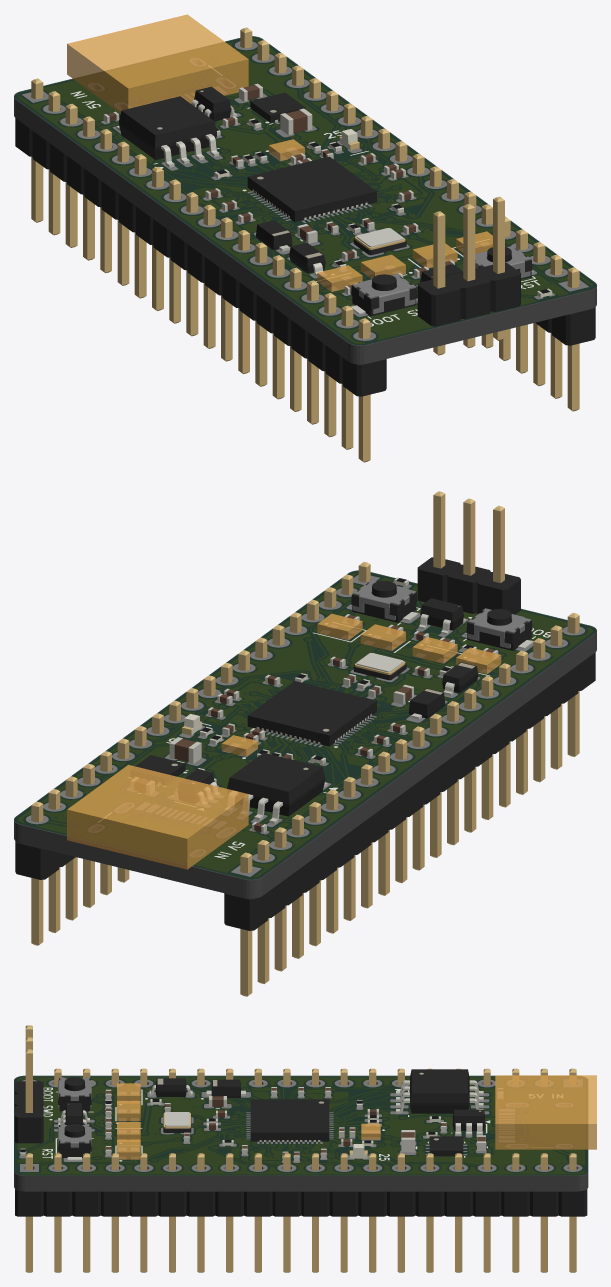
Rendered from board.glb.
3 renders of one model, top to bottom at view 1: azimuth 30°, elevation 25°; view 2: azimuth 150°, elevation 25°; view 3: azimuth 270°, elevation 25°, orthographic. The views are drawn at different scales.
Parts seen in each view (by area): view 1: easy2350_soldermask, PinHeader_1x20_P2.54mm_Vertical (×2), easy2350_PCB, easy2350_copper, J1, PinHeader_1x03_P2.54mm_Vertical, easy2350_pad, QFN-56-1EP_7x7mm_P0.4mm_EP5.6x5.6mm, SOIC-8_5.3x5.3mm_P1.27mm, SW_SPST_TS-1088-xR020 (×2), Crystal_SMD_3225-4Pin_3.2x2.5mm, SOT-23-6 (+8 smaller); view 2: easy2350_soldermask, PinHeader_1x20_P2.54mm_Vertical (×2), easy2350_PCB, easy2350_copper, J1, easy2350_pad, PinHeader_1x03_P2.54mm_Vertical, QFN-56-1EP_7x7mm_P0.4mm_EP5.6x5.6mm, SOIC-8_5.3x5.3mm_P1.27mm, SW_SPST_TS-1088-xR020 (×2), SOT-23-5, SOT-23-6 (+9 smaller); view 3: easy2350_soldermask, PinHeader_1x20_P2.54mm_Vertical (×2), easy2350_PCB, easy2350_copper, J1, easy2350_pad, QFN-56-1EP_7x7mm_P0.4mm_EP5.6x5.6mm, SOIC-8_5.3x5.3mm_P1.27mm, PinHeader_1x03_P2.54mm_Vertical, SW_SPST_TS-1088-xR020 (×2), SOT-23-6, DFN-8-1EP_3x3mm_P0.65mm_EP1.5x2.25mm (+11 smaller).
Part boxes in pixels (x1=…): easy2350_soldermask: x1=14, y1=36, x2=596, y2=345; PinHeader_1x20_P2.54mm_Vertical (×2): x1=15, y1=27, x2=595, y2=462; easy2350_PCB: x1=14, y1=37, x2=596, y2=364; easy2350_copper: x1=19, y1=38, x2=592, y2=343; J1: x1=67, y1=14, x2=248, y2=113; PinHeader_1x03_P2.54mm_Vertical: x1=417, y1=196, x2=520, y2=355; easy2350_pad: x1=22, y1=41, x2=588, y2=340; QFN-56-1EP_7x7mm_P0.4mm_EP5.6x5.6mm: x1=247, y1=156, x2=376, y2=222; SOIC-8_5.3x5.3mm_P1.27mm: x1=116, y1=96, x2=219, y2=167; SW_SPST_TS-1088-xR020 (×2): x1=351, y1=245, x2=533, y2=316; Crystal_SMD_3225-4Pin_3.2x2.5mm: x1=353, y1=228, x2=406, y2=255; SOT-23-6: x1=191, y1=86, x2=237, y2=121; easy2350_soldermask: x1=14, y1=570, x2=596, y2=879; PinHeader_1x20_P2.54mm_Vertical (×2): x1=15, y1=562, x2=595, y2=996; easy2350_PCB: x1=14, y1=571, x2=596, y2=898; easy2350_copper: x1=18, y1=573, x2=592, y2=877; J1: x1=67, y1=765, x2=248, y2=869; easy2350_pad: x1=26, y1=575, x2=585, y2=876; PinHeader_1x03_P2.54mm_Vertical: x1=417, y1=491, x2=520, y2=614; QFN-56-1EP_7x7mm_P0.4mm_EP5.6x5.6mm: x1=247, y1=681, x2=376, y2=746; SOIC-8_5.3x5.3mm_P1.27mm: x1=225, y1=752, x2=327, y2=824; SW_SPST_TS-1088-xR020 (×2): x1=350, y1=580, x2=533, y2=650; SOT-23-5: x1=418, y1=598, x2=465, y2=634; SOT-23-6: x1=172, y1=769, x2=219, y2=805; easy2350_soldermask: x1=14, y1=1075, x2=588, y2=1175; PinHeader_1x20_P2.54mm_Vertical (×2): x1=15, y1=1068, x2=587, y2=1272; easy2350_PCB: x1=14, y1=1077, x2=588, y2=1191; easy2350_copper: x1=18, y1=1078, x2=584, y2=1173; J1: x1=495, y1=1075, x2=596, y2=1149; easy2350_pad: x1=19, y1=1079, x2=582, y2=1171; QFN-56-1EP_7x7mm_P0.4mm_EP5.6x5.6mm: x1=250, y1=1099, x2=329, y2=1141; SOIC-8_5.3x5.3mm_P1.27mm: x1=396, y1=1069, x2=483, y2=1113; PinHeader_1x03_P2.54mm_Vertical: x1=15, y1=1025, x2=43, y2=1143; SW_SPST_TS-1088-xR020 (×2): x1=58, y1=1077, x2=91, y2=1160; SOT-23-6: x1=452, y1=1109, x2=485, y2=1135; DFN-8-1EP_3x3mm_P0.65mm_EP1.5x2.25mm: x1=429, y1=1136, x2=463, y2=1156.
Size of the model in its own units: 0.021 by 0.0188 by 0.0518.
